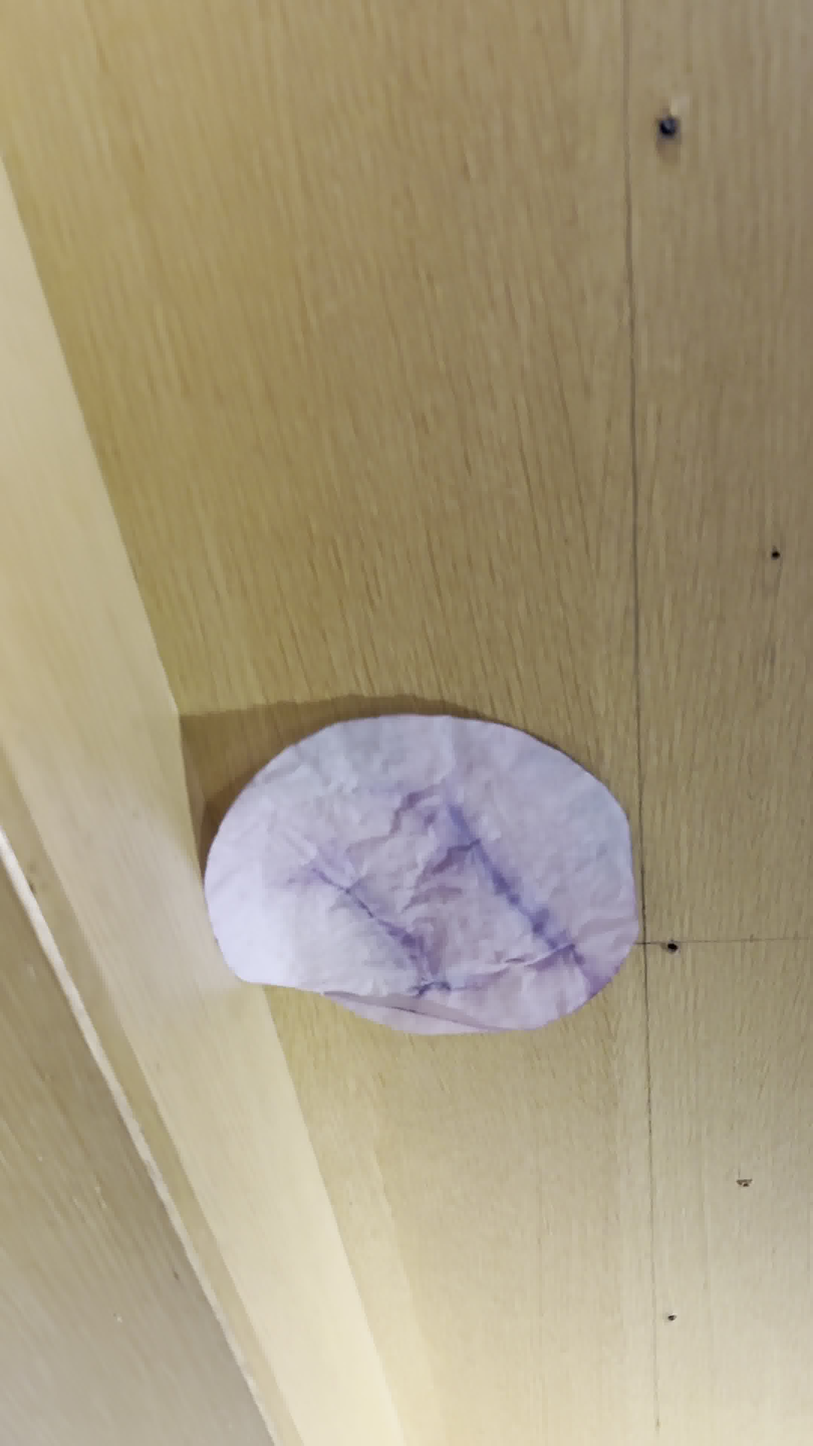Target: (203, 716, 639, 1034)
